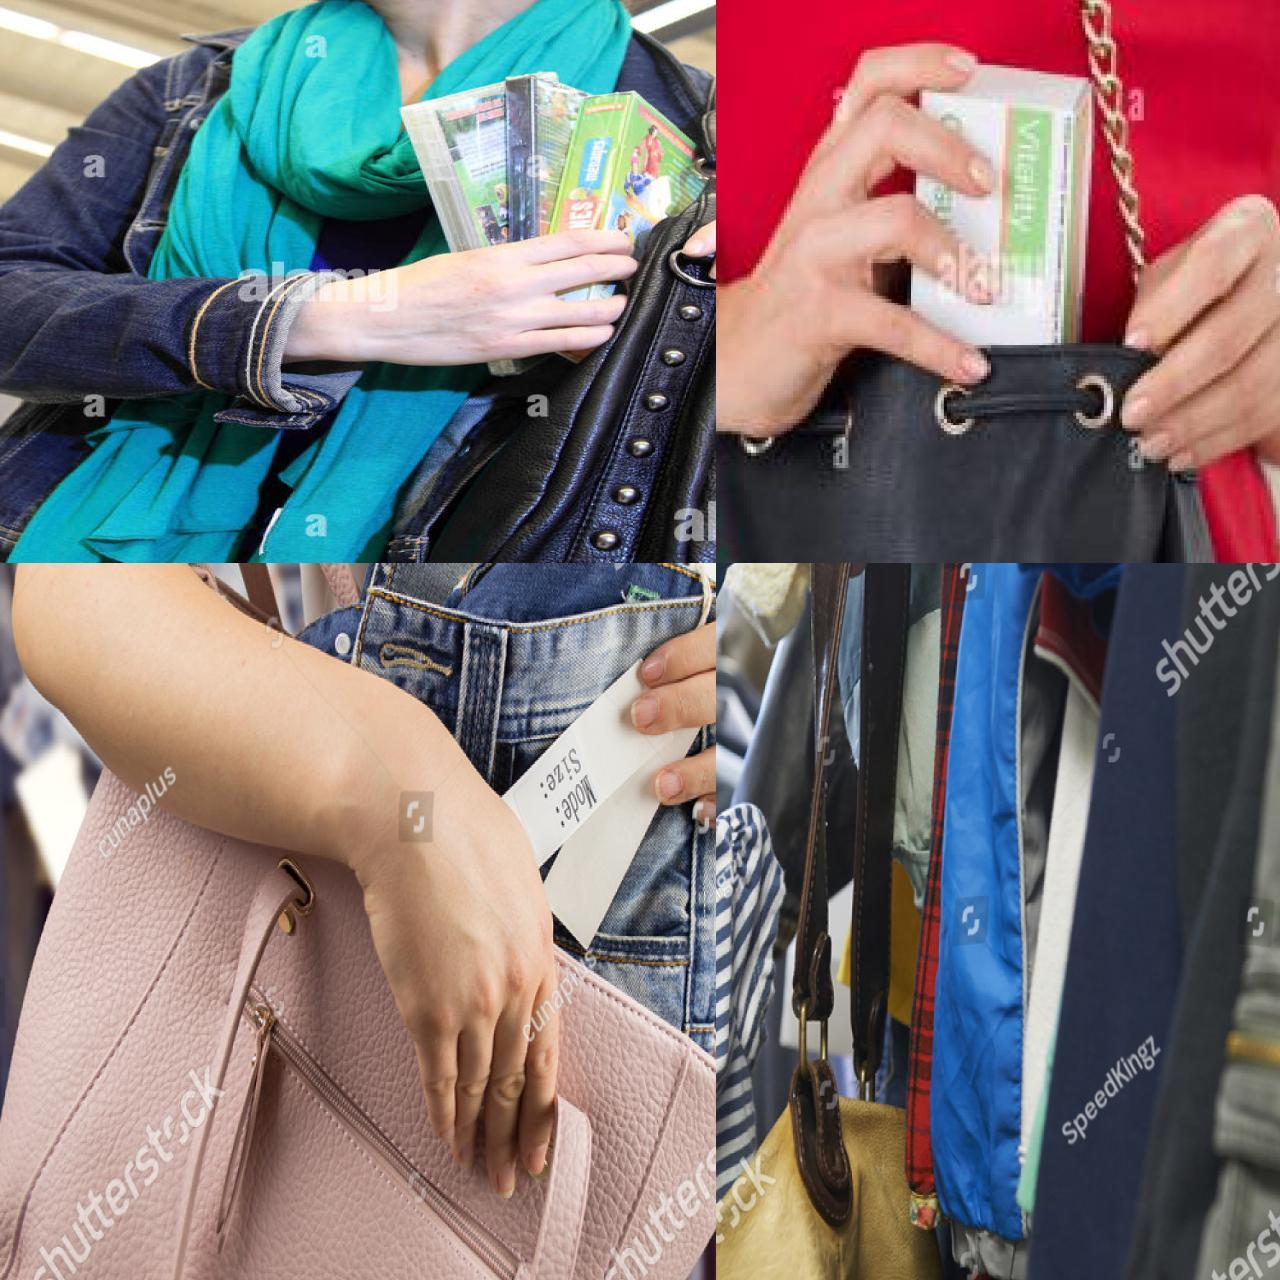Shoplifting: (0, 0, 716, 515), (716, 563, 1185, 1280), (248, 563, 716, 1280), (716, 0, 1280, 563)
